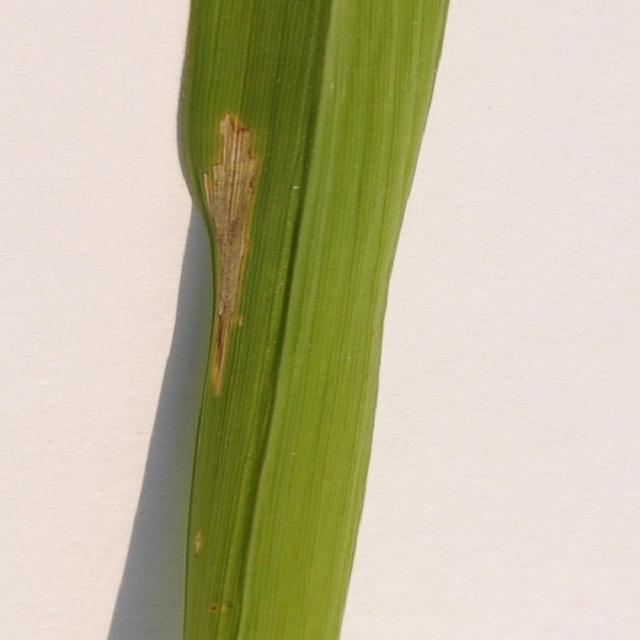leaf blight: (200, 99, 260, 388)
